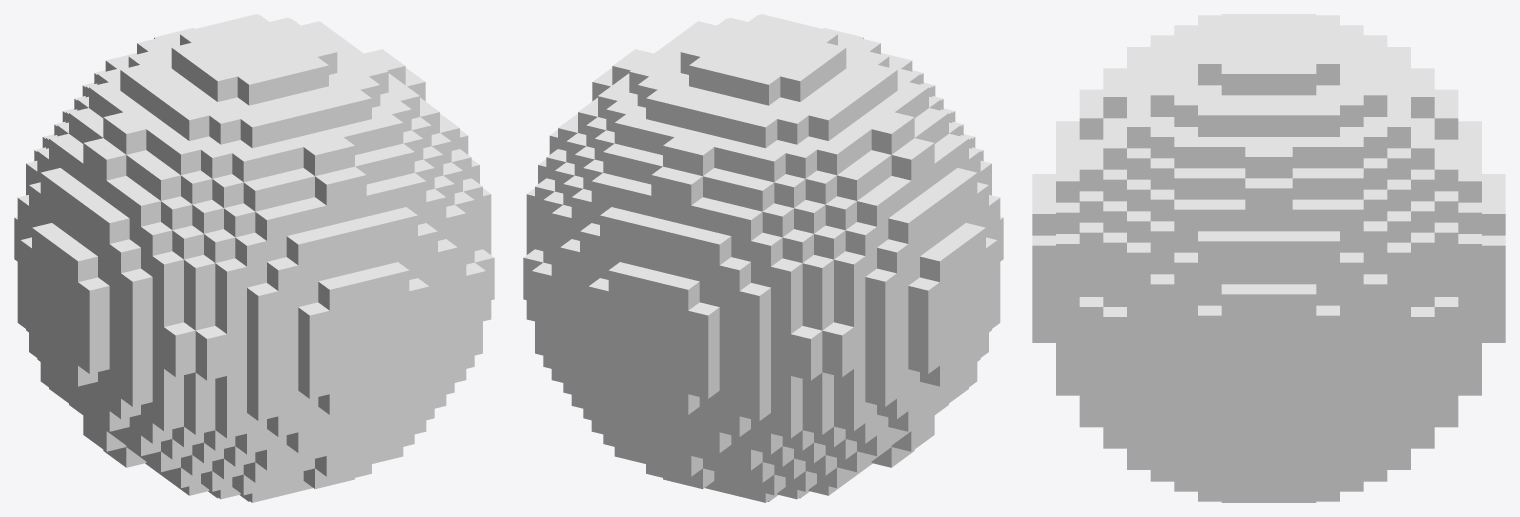
Rendered from ball.obj.
3 renders of one model, left to right at view 1: azimuth 30°, elevation 25°; view 2: azimuth 150°, elevation 25°; view 3: azimuth 270°, elevation 25°, orthographic. The views are drawn at different scales.
Bounding box in the file's own units: 2 × 2 × 2.
1 material, 1 textured.
